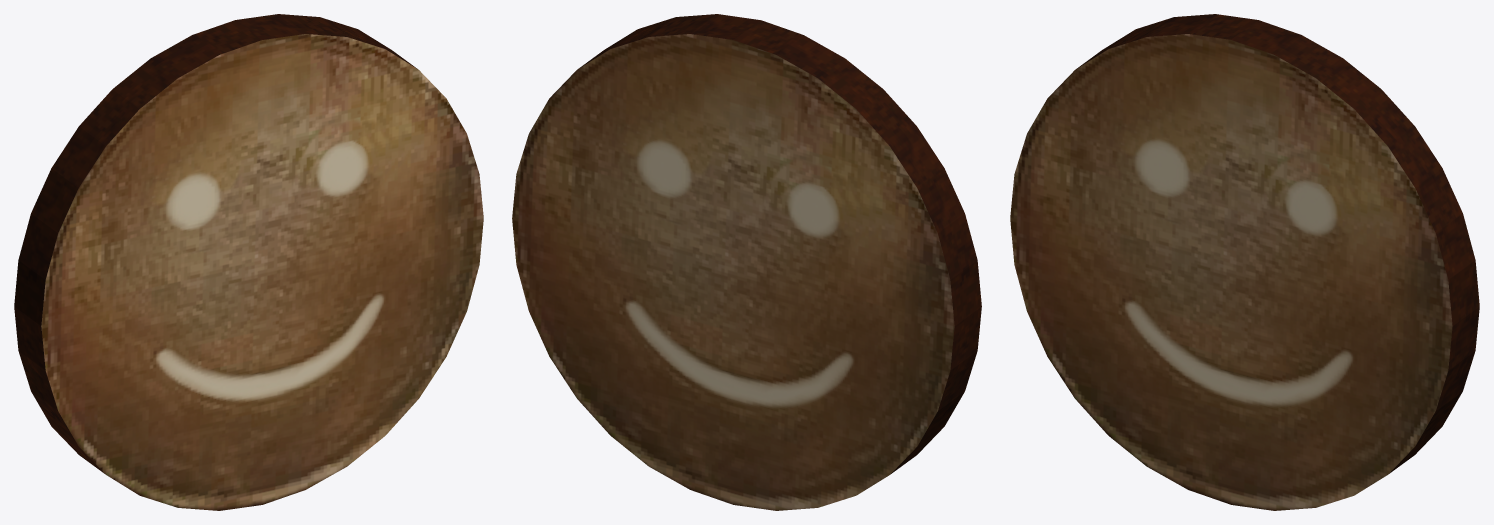
The model's file is Tubby Toast.fbx.
3 renders of one model, left to right at view 1: azimuth 30°, elevation 25°; view 2: azimuth 150°, elevation 25°; view 3: azimuth 330°, elevation 25°, orthographic.
Parts seen in each view (by area): view 1: toast; view 2: toast; view 3: toast.
Boxes of the visible parts, x1,y1,x2,y2 form: toast: [14, 14, 483, 510]; toast: [512, 14, 981, 510]; toast: [1010, 14, 1479, 510].
Size of the model in its own units: 14 by 14.06 by 1.5.
Materials: 1 (1 with a texture image).
